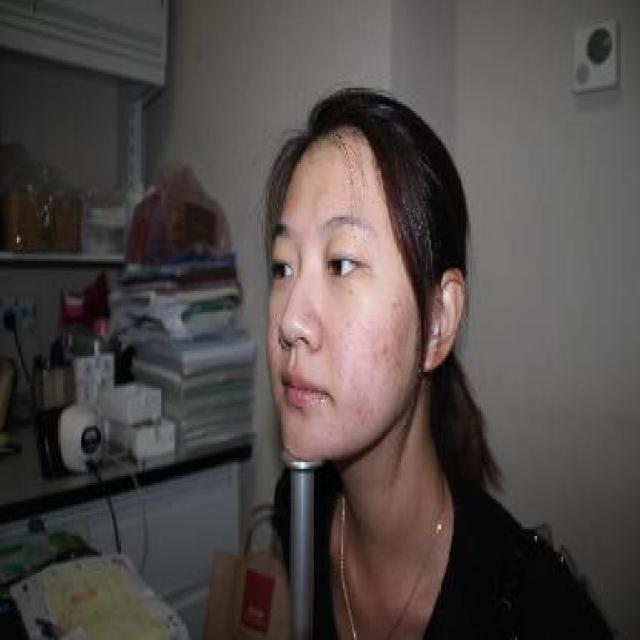dark spot: (389, 300, 398, 310), (399, 298, 403, 307)
papules: (383, 342, 391, 356)
whiteheads: (340, 330, 348, 340), (346, 319, 352, 328), (312, 434, 318, 442), (318, 411, 324, 418), (331, 423, 337, 430), (346, 344, 351, 351), (354, 369, 357, 376)
